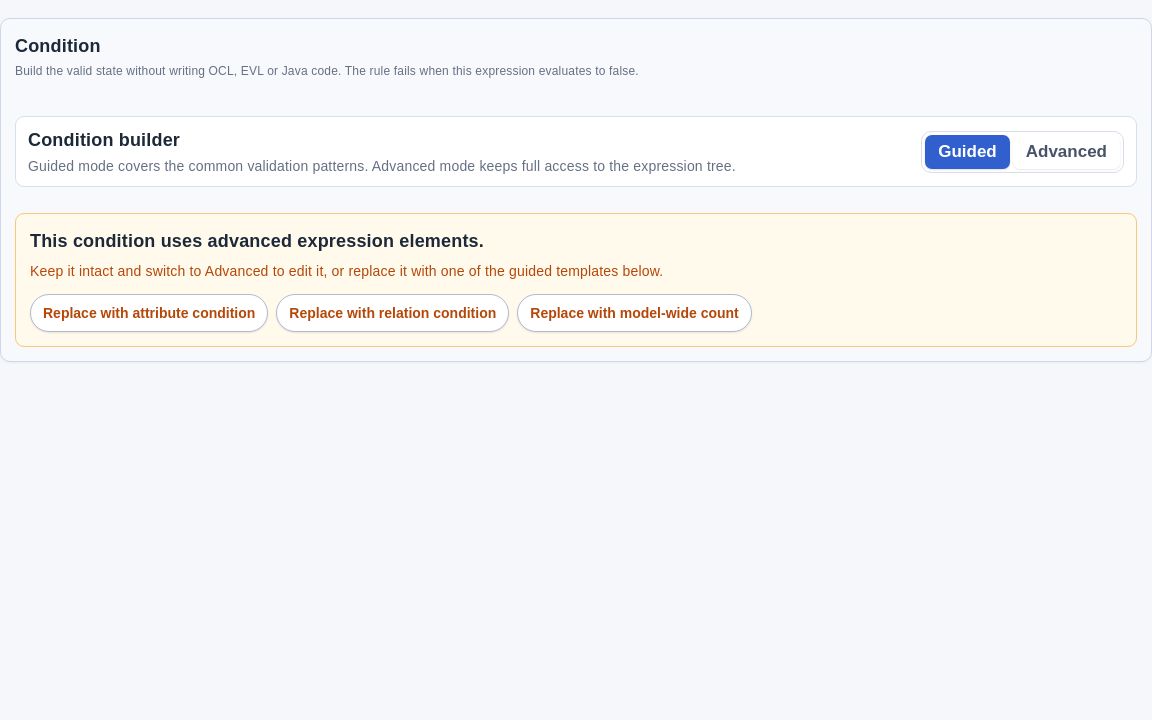
Test: visual expression builder › preserves an advanced expression until the user explicitly chooses to replace it
The image size is (1152, 720).
Expected: the text "This condition uses advanced expression elements." is shown, left=30, top=231, right=484, bottom=251
Click the button "Advanced": (1066, 152) left=1013, top=135, right=1120, bottom=169
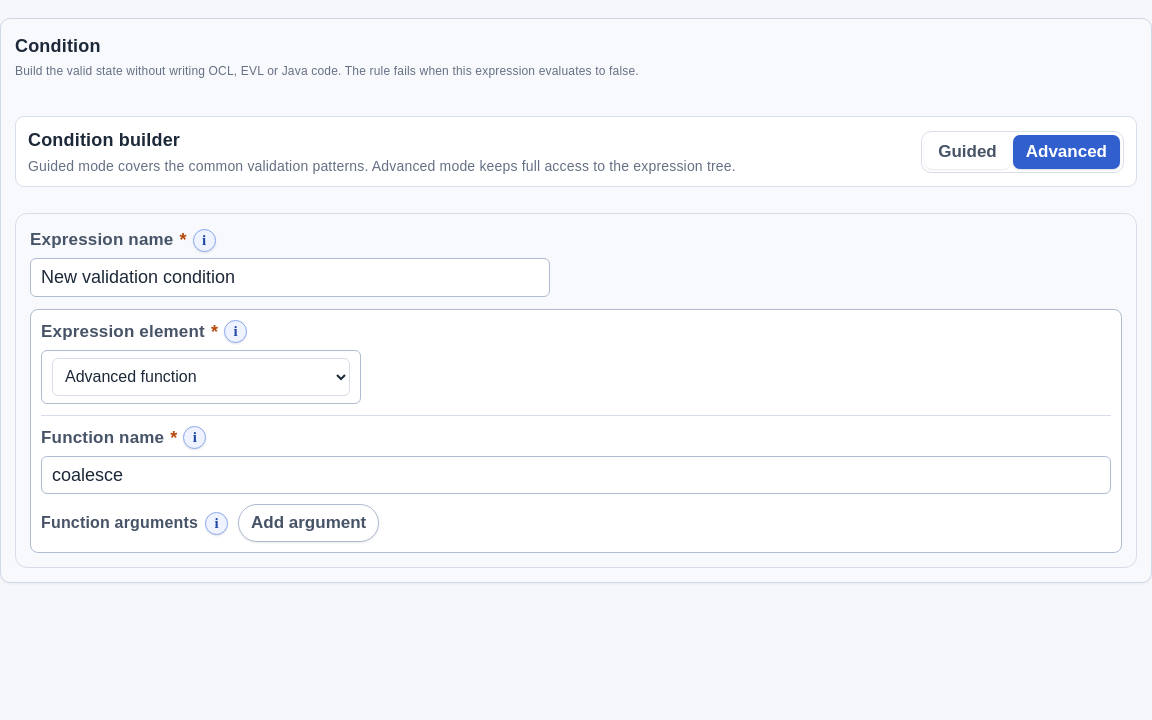
Expected: the dropdown labelled "Expression element" shows "Advanced function", left=52, top=358, right=350, bottom=396
